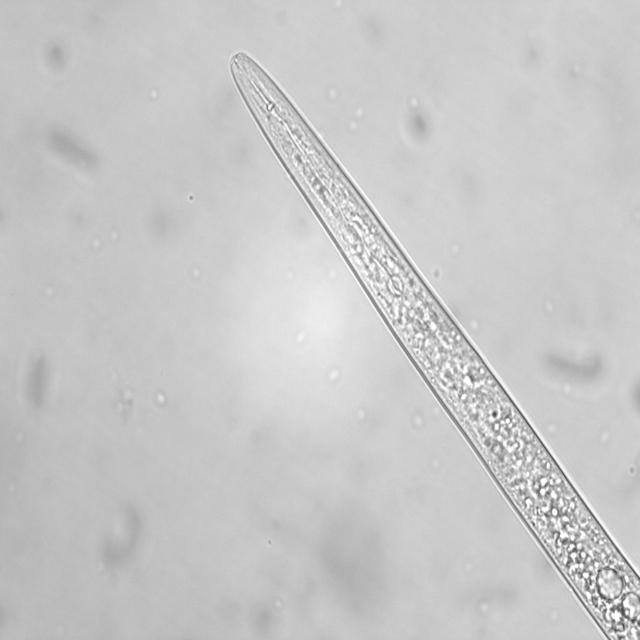Meloidogyne: (228, 46, 640, 640)
